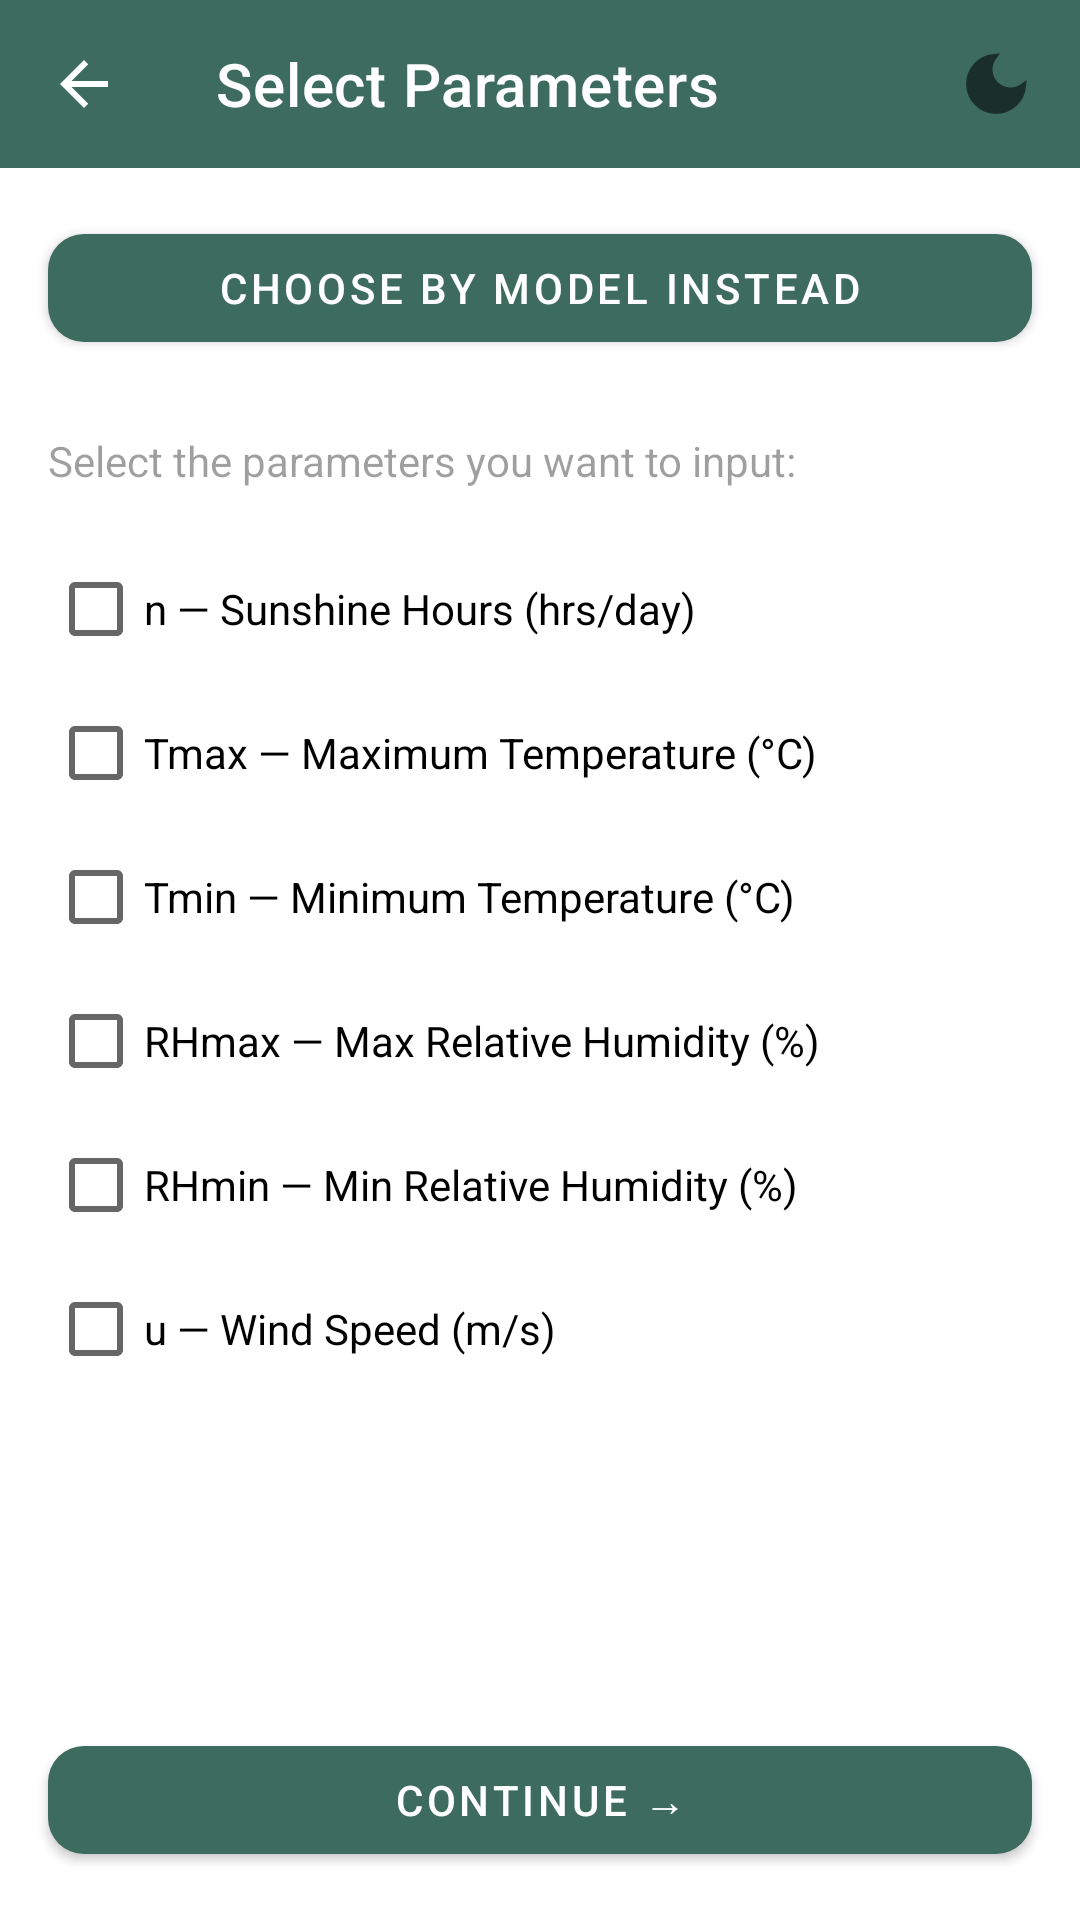

Point at icon controls on the screen. Image size 1080px x 1920px, points as (x=x, y=y).
Toggle Theme: (x=996, y=83)
